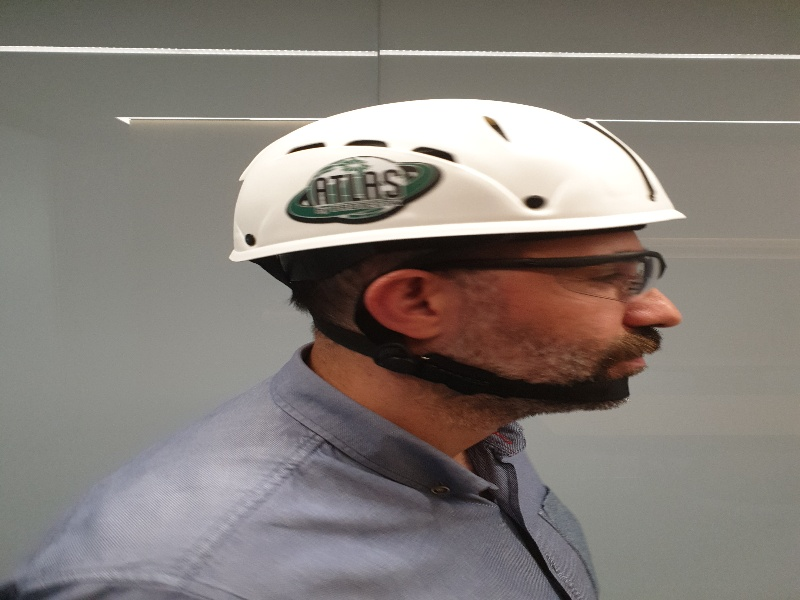Baret: (232, 98, 685, 250)
Gozluk: (423, 248, 673, 298)
